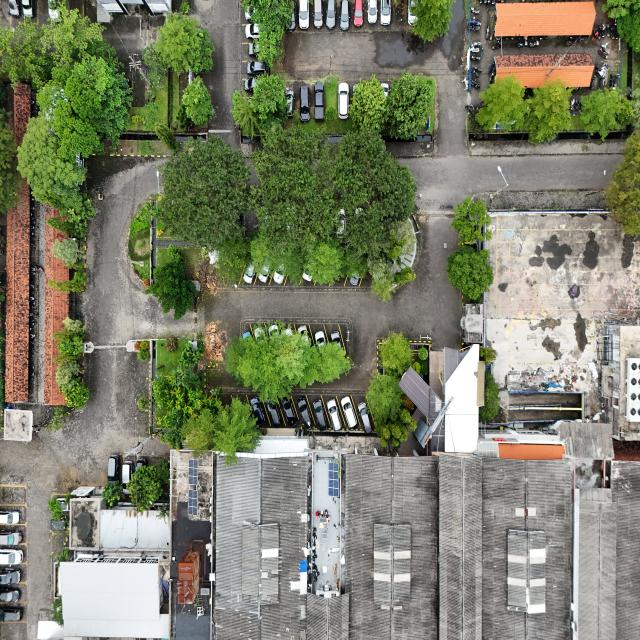Tree: (152, 251, 198, 314), (447, 248, 499, 301), (129, 459, 174, 505), (354, 78, 386, 130), (184, 72, 214, 126), (252, 71, 288, 116), (376, 331, 414, 373), (49, 236, 89, 272), (46, 272, 88, 296)
